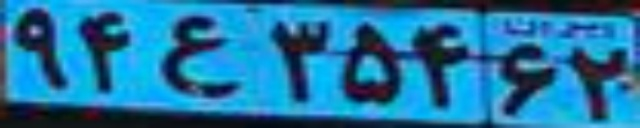2: (569, 44, 629, 121)
3: (269, 18, 330, 103)
4: (410, 24, 473, 108), (78, 11, 138, 94)
5: (338, 21, 402, 104)
6: (496, 42, 558, 113)
9: (13, 9, 67, 90)
ain: (161, 15, 242, 99)
